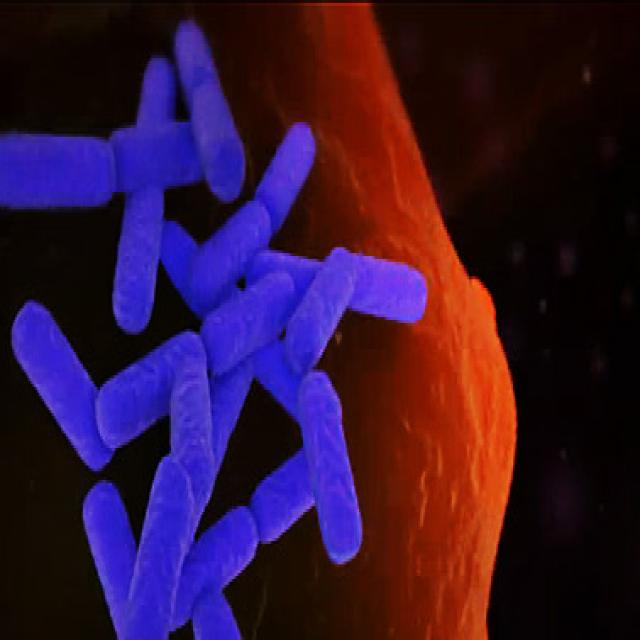Hydra: (2, 0, 520, 637)
